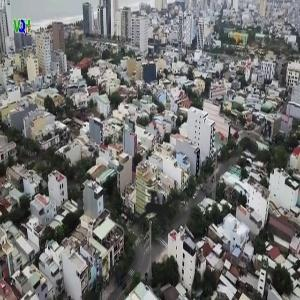drone: (83, 135, 242, 294)
